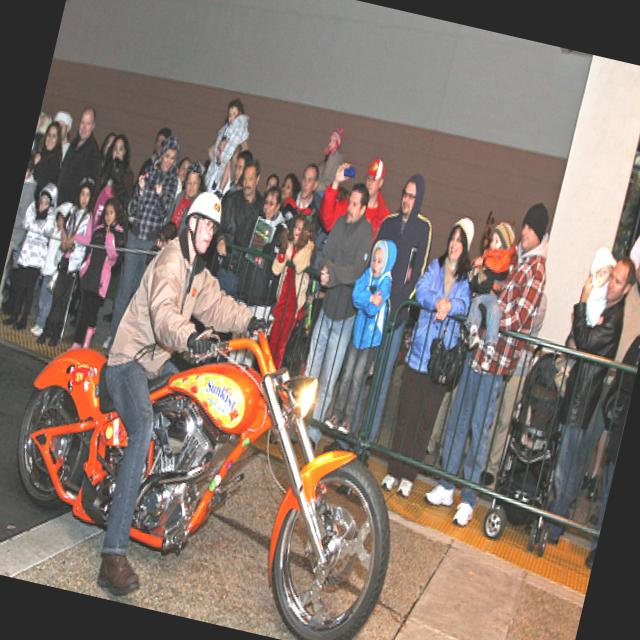Vehicle: (0, 259, 440, 640)
